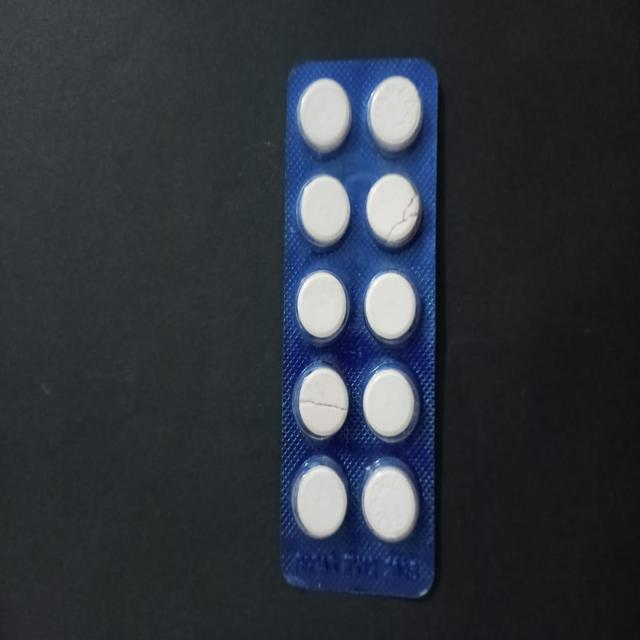defect: (290, 358, 353, 446), (364, 169, 424, 254)
